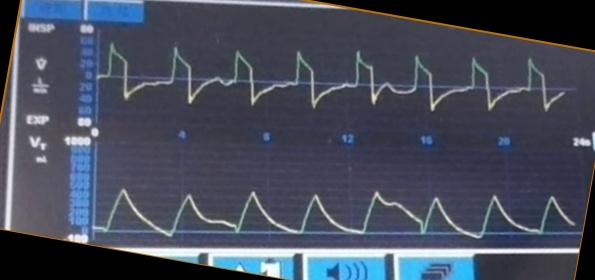Premature_cycling Flow: (101, 41, 566, 119)
Premature_cycling Volume: (95, 180, 576, 243)
